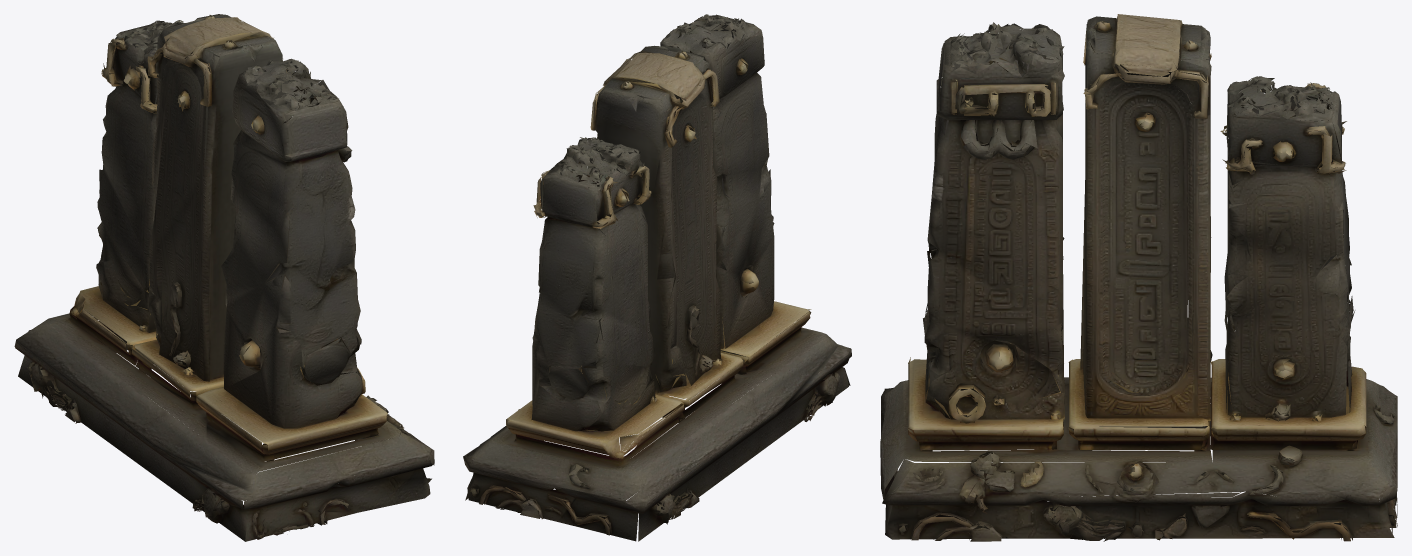
File: ch2_voice_below_tablet_wall_LOD1.glb
3 views of the same model, side by side, from view 1: azimuth 30°, elevation 25°; view 2: azimuth 150°, elevation 25°; view 3: azimuth 270°, elevation 25° (orthographic). The views are drawn at different scales.
Parts seen in each view (by area): view 1: tripo_node_839c6332-e342-46e1-a384-716f313c721f; view 2: tripo_node_839c6332-e342-46e1-a384-716f313c721f; view 3: tripo_node_839c6332-e342-46e1-a384-716f313c721f.
Part boxes in pixels (left/top/right/bottom): tripo_node_839c6332-e342-46e1-a384-716f313c721f: left=14, top=14, right=434, bottom=541; tripo_node_839c6332-e342-46e1-a384-716f313c721f: left=463, top=14, right=851, bottom=541; tripo_node_839c6332-e342-46e1-a384-716f313c721f: left=880, top=14, right=1397, bottom=541.
Size of the model in its own units: 0.5247 by 0.9893 by 1.
Materials: 1 (1 with a texture image).
